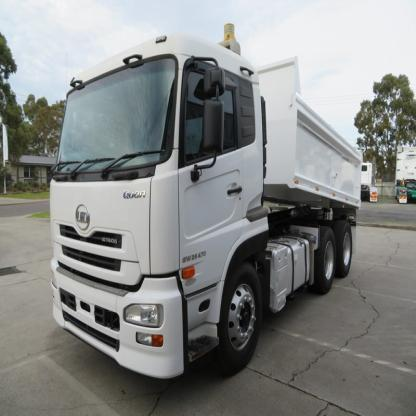dump_truck: (39, 18, 367, 386)
